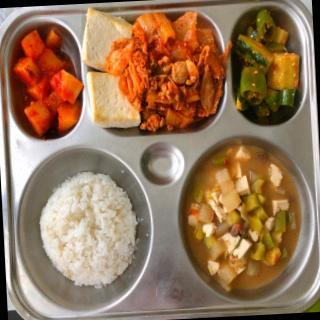Nasi: (39, 174, 137, 293)
